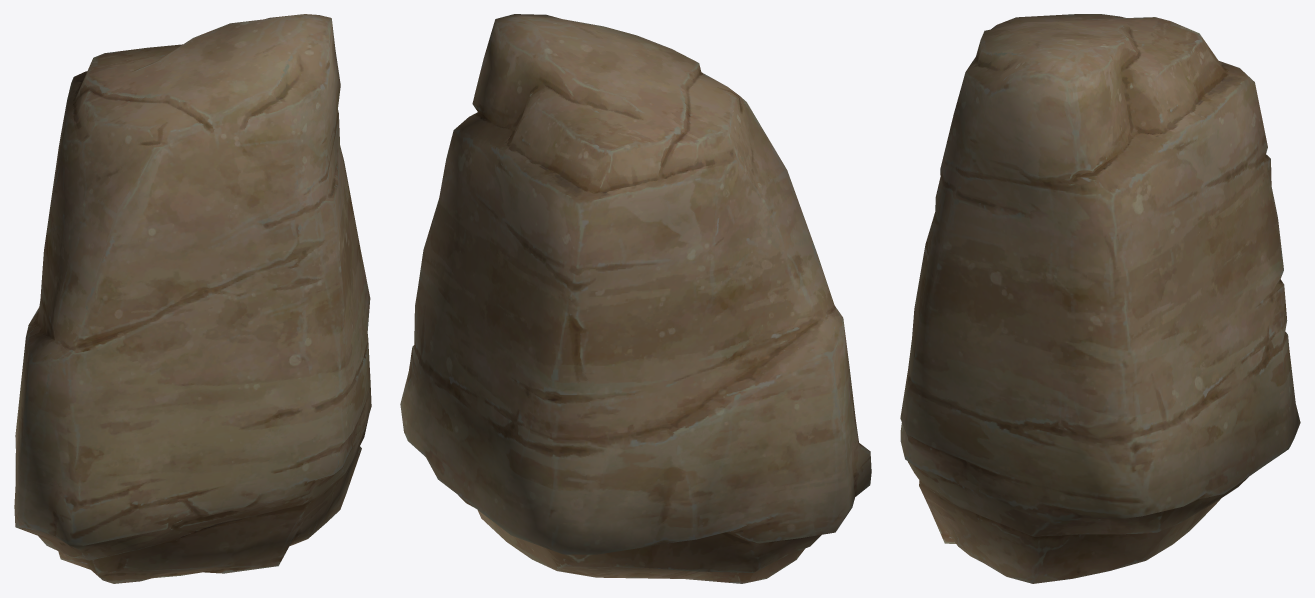
The model's file is Area_Dq_Rock_YXG_Full_L_02_StoneTint_YUANXIAGONG.fbx.
The picture shows the model from 3 angles, left to right: view 1: azimuth 30°, elevation 25°; view 2: azimuth 150°, elevation 25°; view 3: azimuth 270°, elevation 25°; orthographic projection. The views are drawn at different scales.
Parts seen in each view (by area): view 1: Area_Dq_Rock_YXG_Full_L_02_StoneTint_YUANXIAGONG_Lod0; view 2: Area_Dq_Rock_YXG_Full_L_02_StoneTint_YUANXIAGONG_Lod0; view 3: Area_Dq_Rock_YXG_Full_L_02_StoneTint_YUANXIAGONG_Lod0.
Part boxes in pixels (bbox=[...]): Area_Dq_Rock_YXG_Full_L_02_StoneTint_YUANXIAGONG_Lod0: bbox=[14, 14, 371, 583]; Area_Dq_Rock_YXG_Full_L_02_StoneTint_YUANXIAGONG_Lod0: bbox=[400, 14, 871, 583]; Area_Dq_Rock_YXG_Full_L_02_StoneTint_YUANXIAGONG_Lod0: bbox=[900, 14, 1300, 583].
Size of the model in its own units: 7.2 by 8.81 by 6.02.
Materials: 1 (1 with a texture image).
